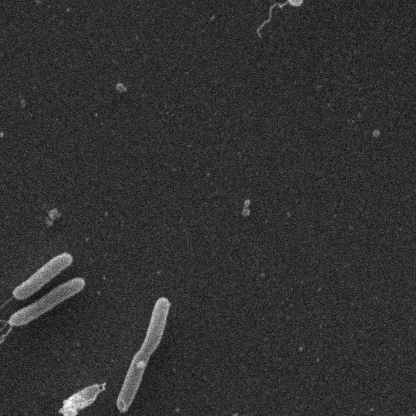cell2cell: (0, 295, 15, 320)
regular: (117, 297, 169, 414), (10, 278, 87, 327), (12, 252, 75, 298), (60, 382, 101, 416)
